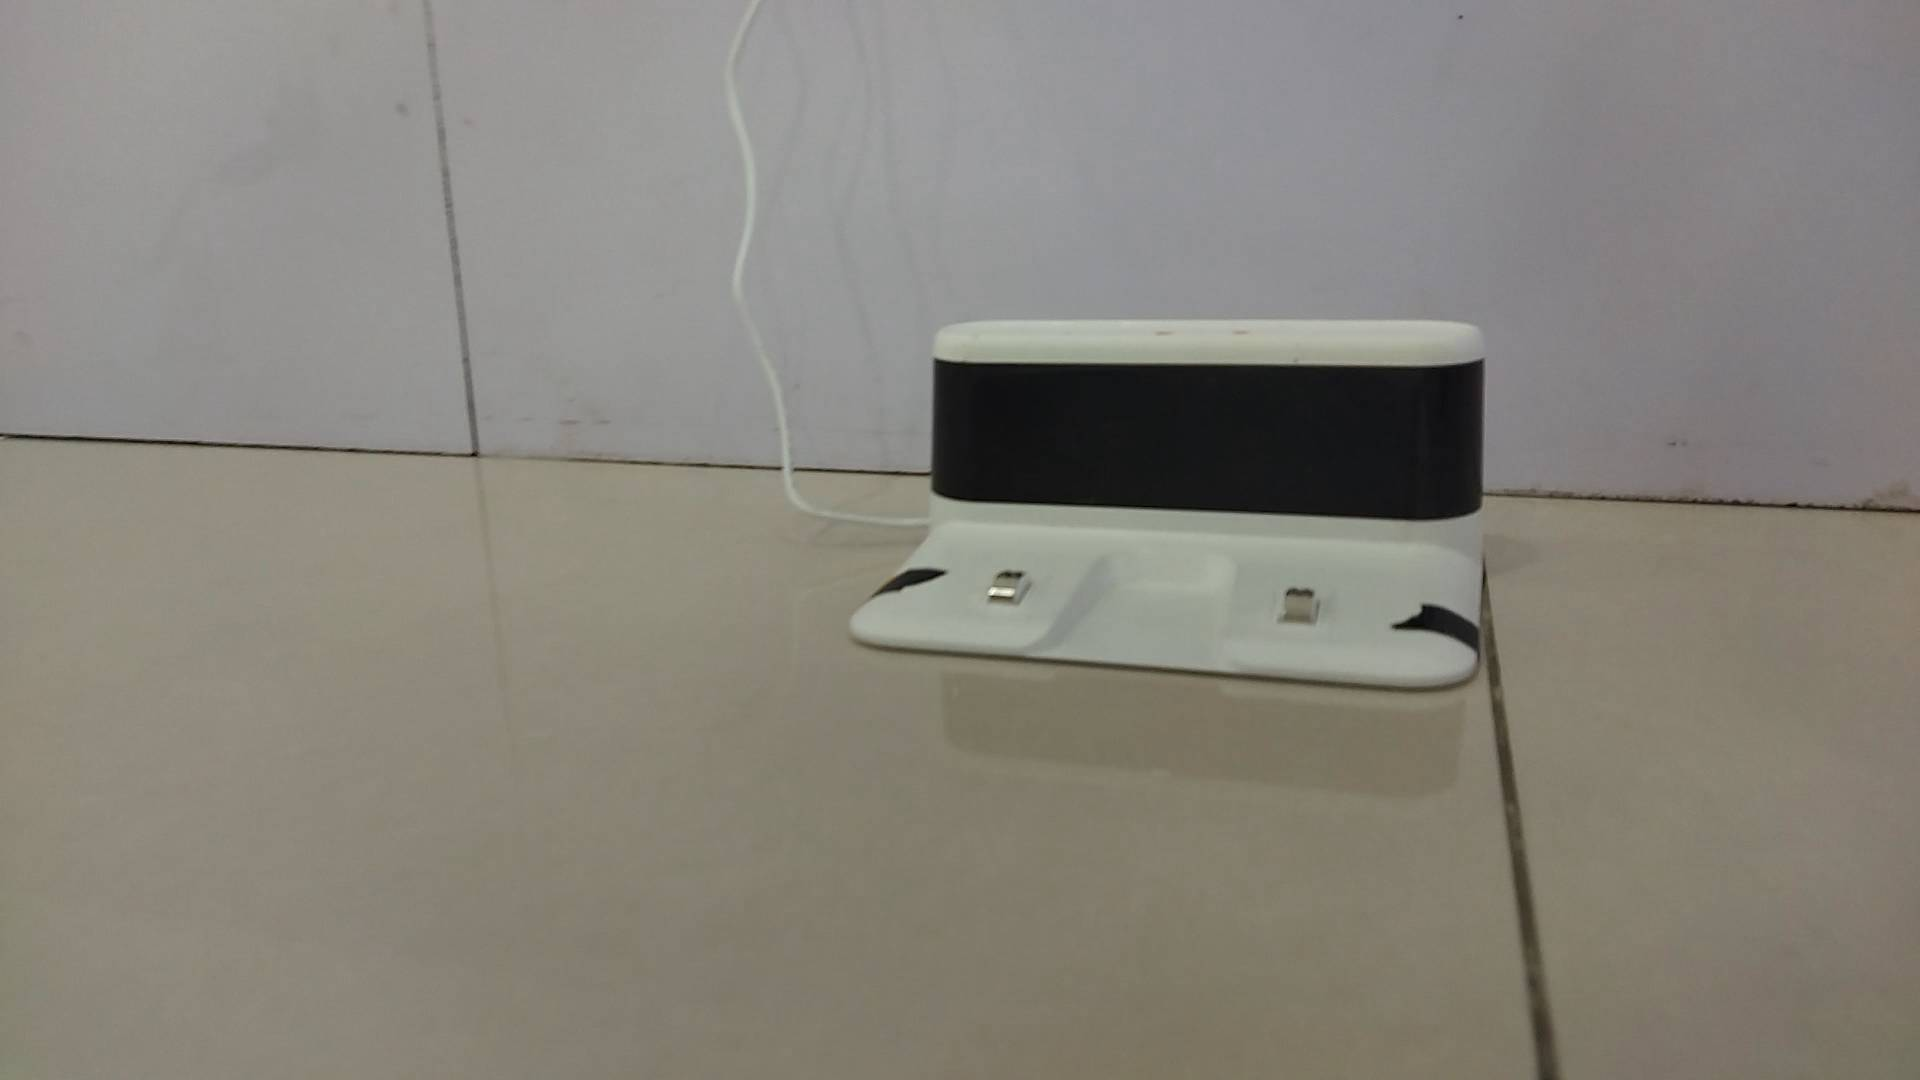recharge seat: (848, 319, 1487, 688)
